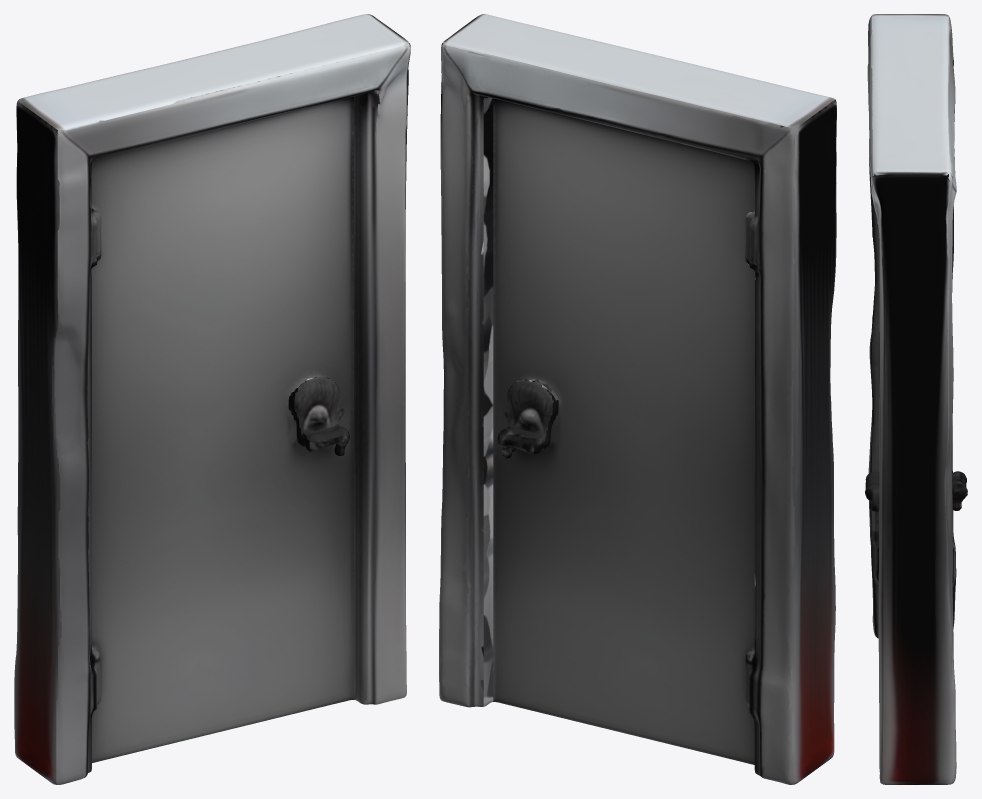
File: steeldoor 1.fbx
3 views of the same model, side by side, from view 1: azimuth 30°, elevation 25°; view 2: azimuth 150°, elevation 25°; view 3: azimuth 270°, elevation 25° (orthographic). The views are drawn at different scales.
Visible parts, largest first — view 1: tmpq3h4ihw4.ply; view 2: tmpq3h4ihw4.ply; view 3: tmpq3h4ihw4.ply.
Boxes of the visible parts, x1,y1,x2,y2 form: tmpq3h4ihw4.ply: (14, 14, 410, 784); tmpq3h4ihw4.ply: (439, 14, 836, 784); tmpq3h4ihw4.ply: (865, 14, 967, 784).
Size of the model in its own units: 56.57 by 98.9 by 15.04.
1 material, 1 textured.
